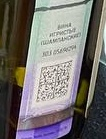2d: (34, 59, 72, 103)
